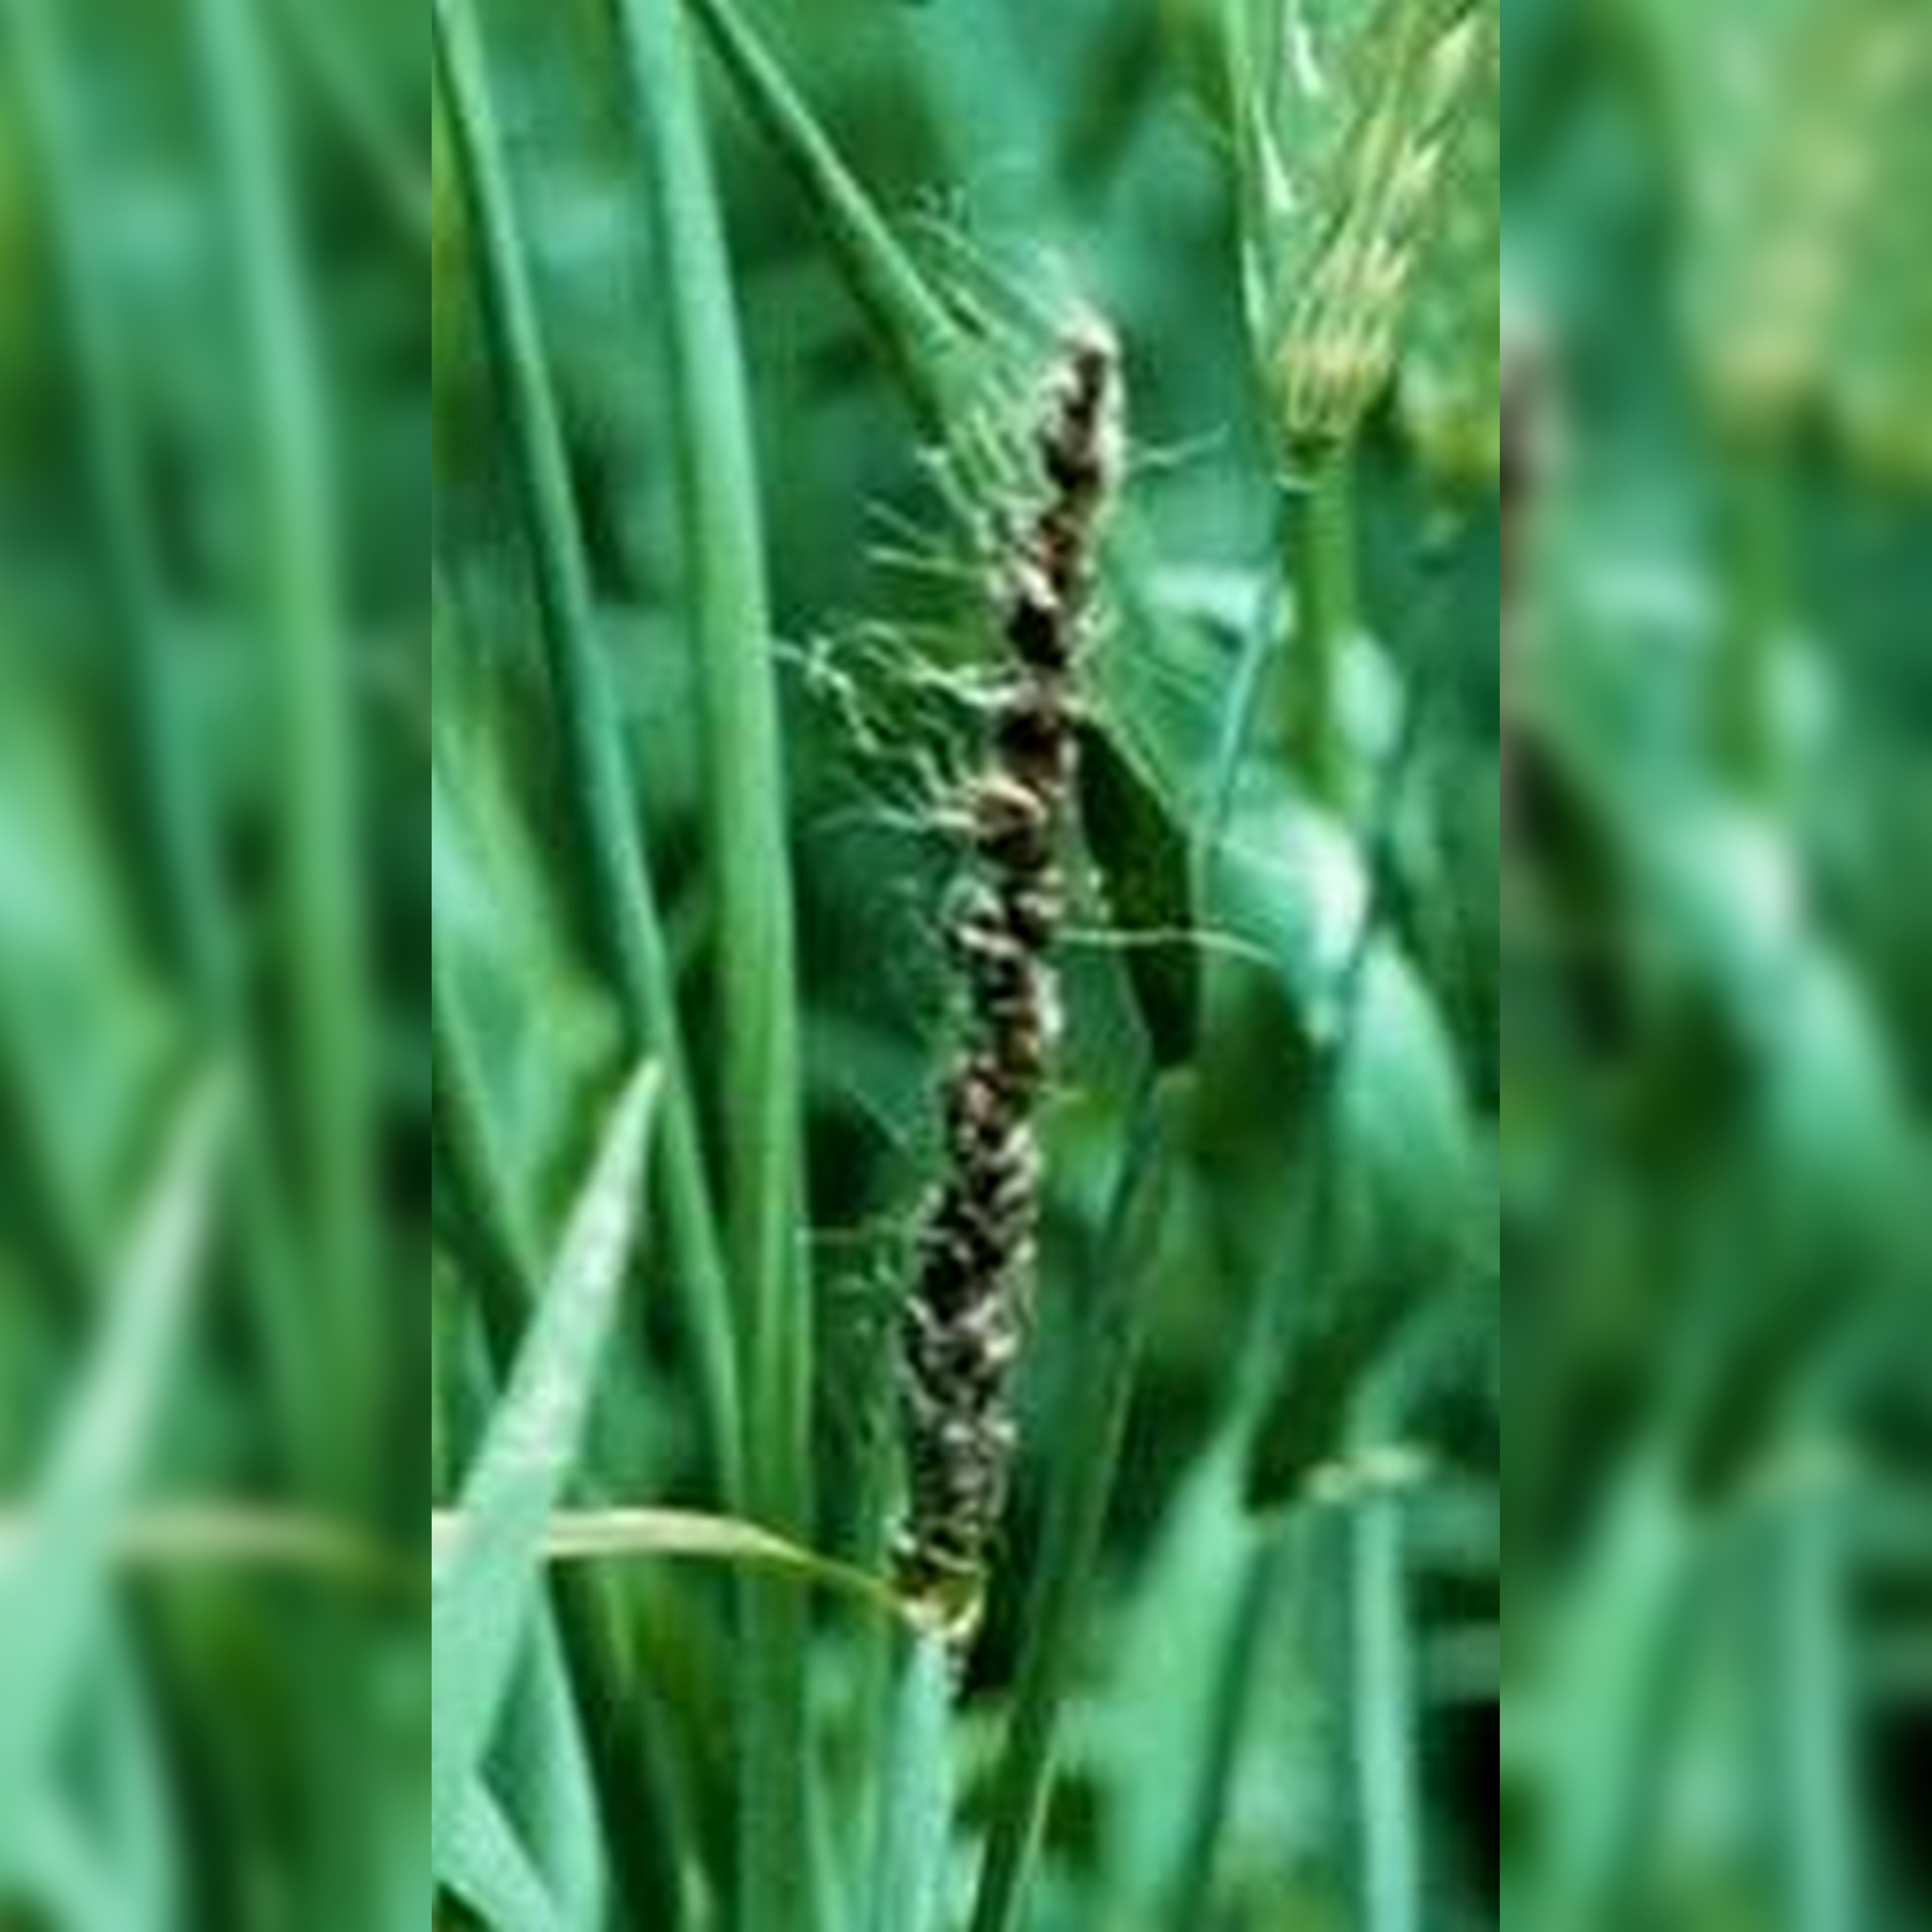Wheat Loose Smut: (883, 336, 1143, 1578)
